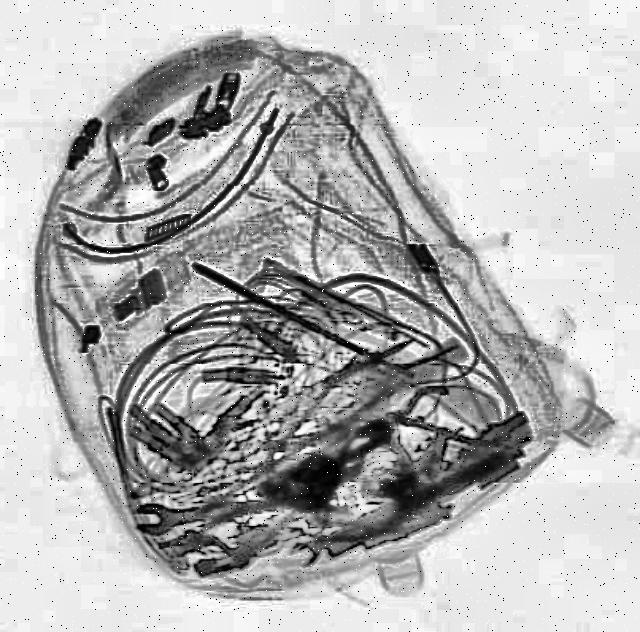Pliers: (389, 384, 487, 443)
Wrench: (288, 475, 438, 568), (133, 487, 267, 535)
